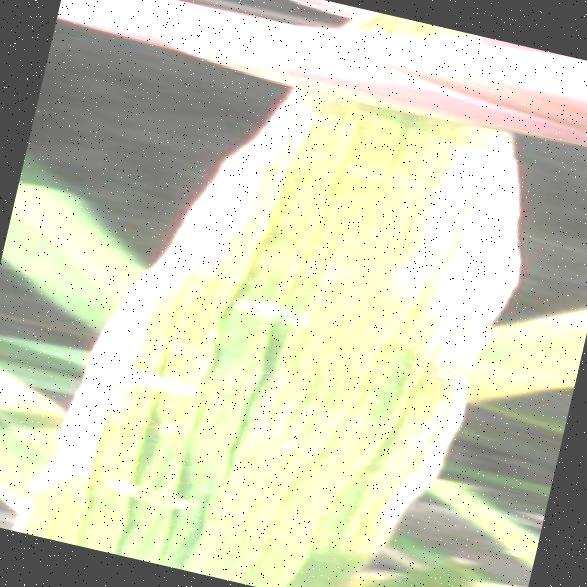Bacteria_Leaf_Blight: (79, 61, 543, 587)
